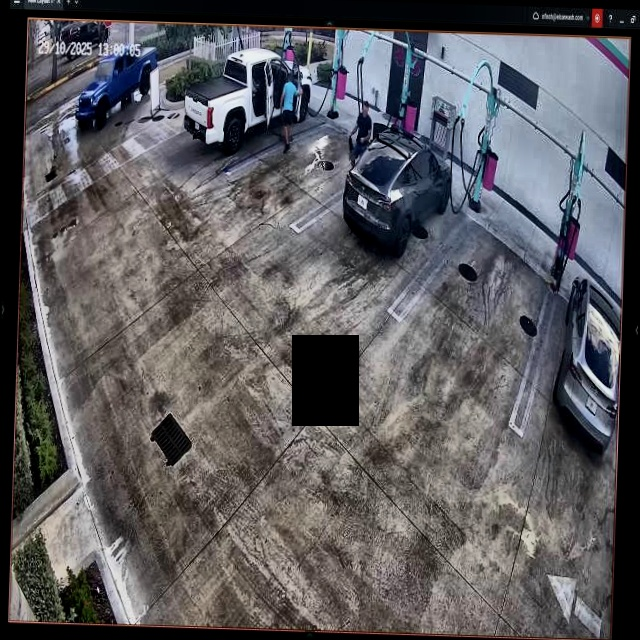Car: (340, 125, 452, 254)
